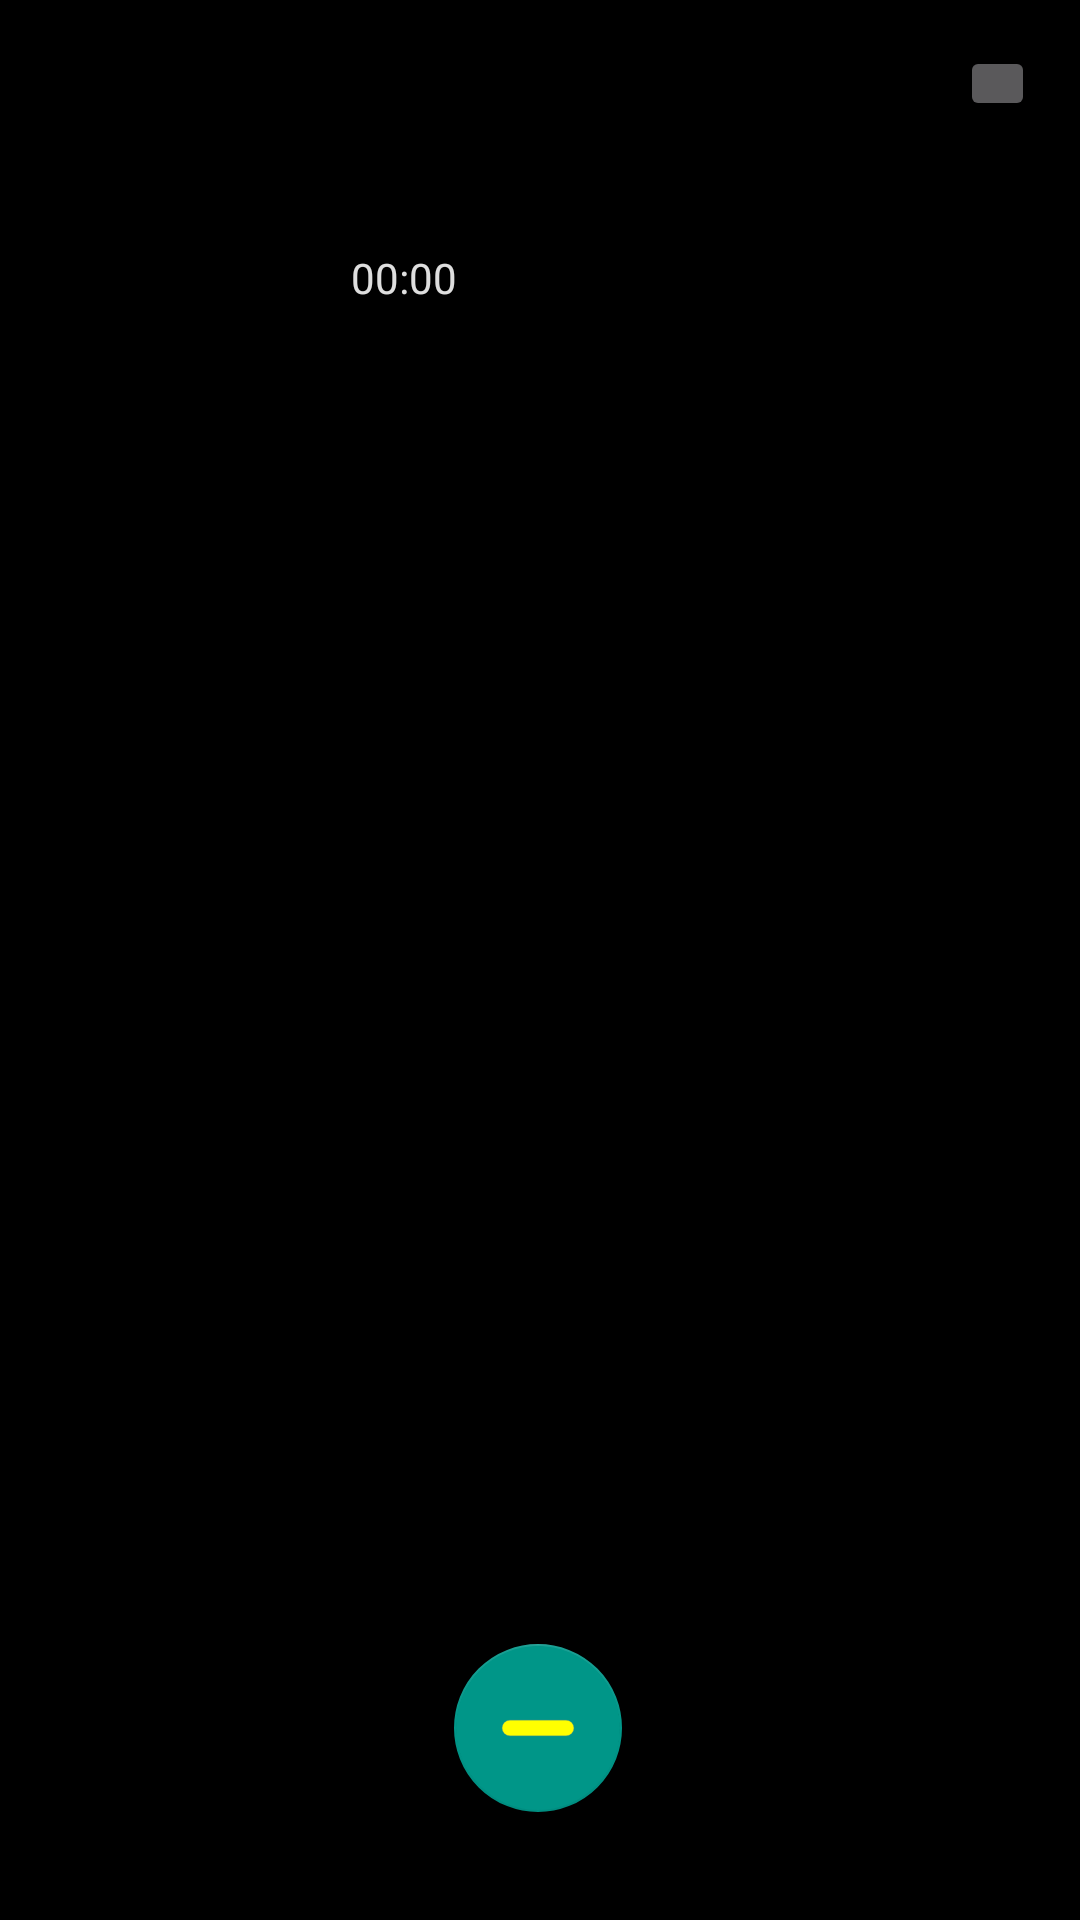

Named icons in this screenshot (1080x1920) and their bounding boxes, (x1, y1, x2, y2):
control buttton: (454, 1644, 622, 1812)
